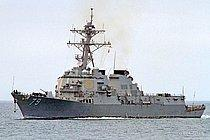MIL_Ship: (9, 8, 205, 119)
